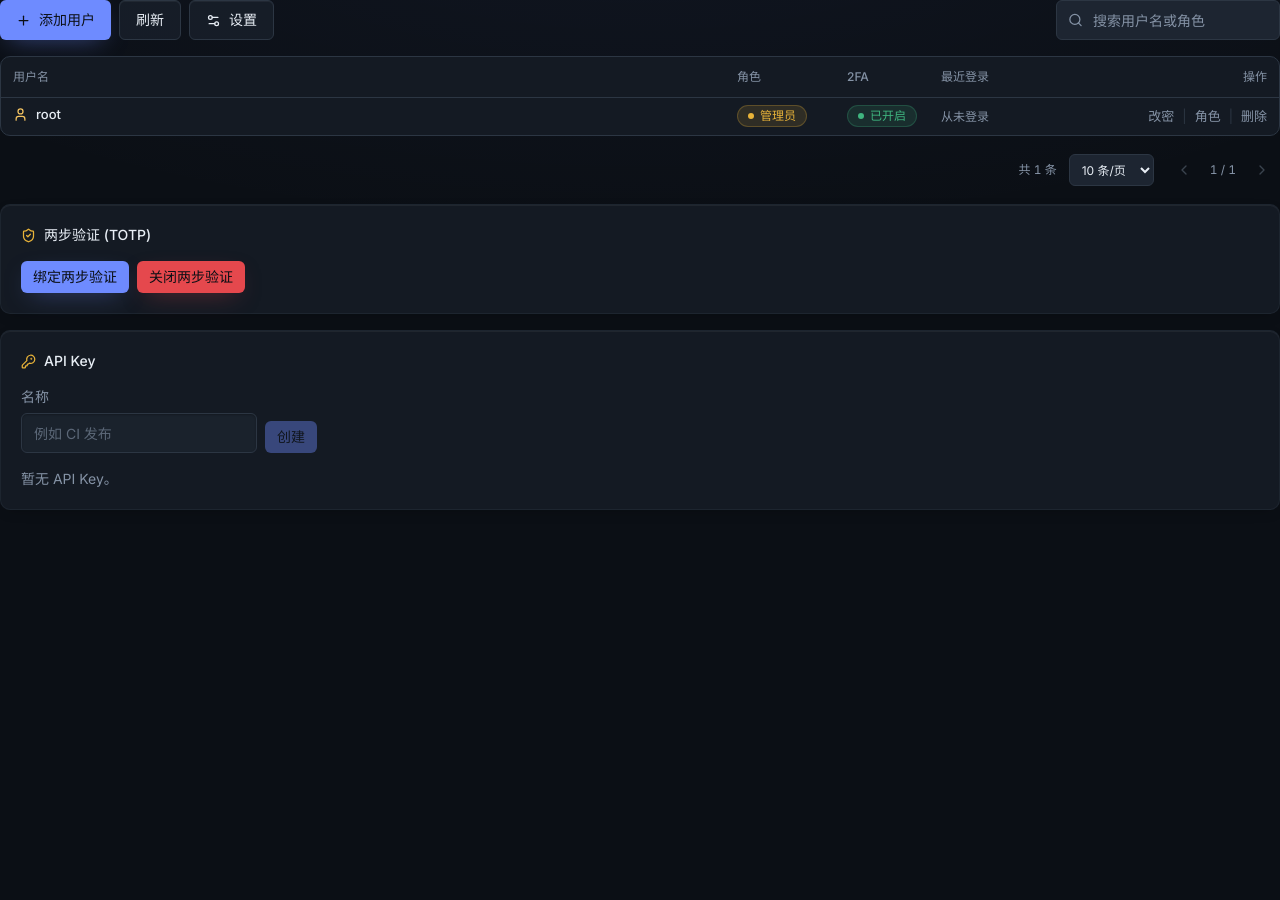
Users page › opens the add-user modal
The image size is (1280, 900).
Expected: the text "root" is shown, [36,105,61,124]
What coordinates should you click on to do the following:
click the button "添加用户"
I would click on:
 (56, 20)
Its box is [0,0,111,40].
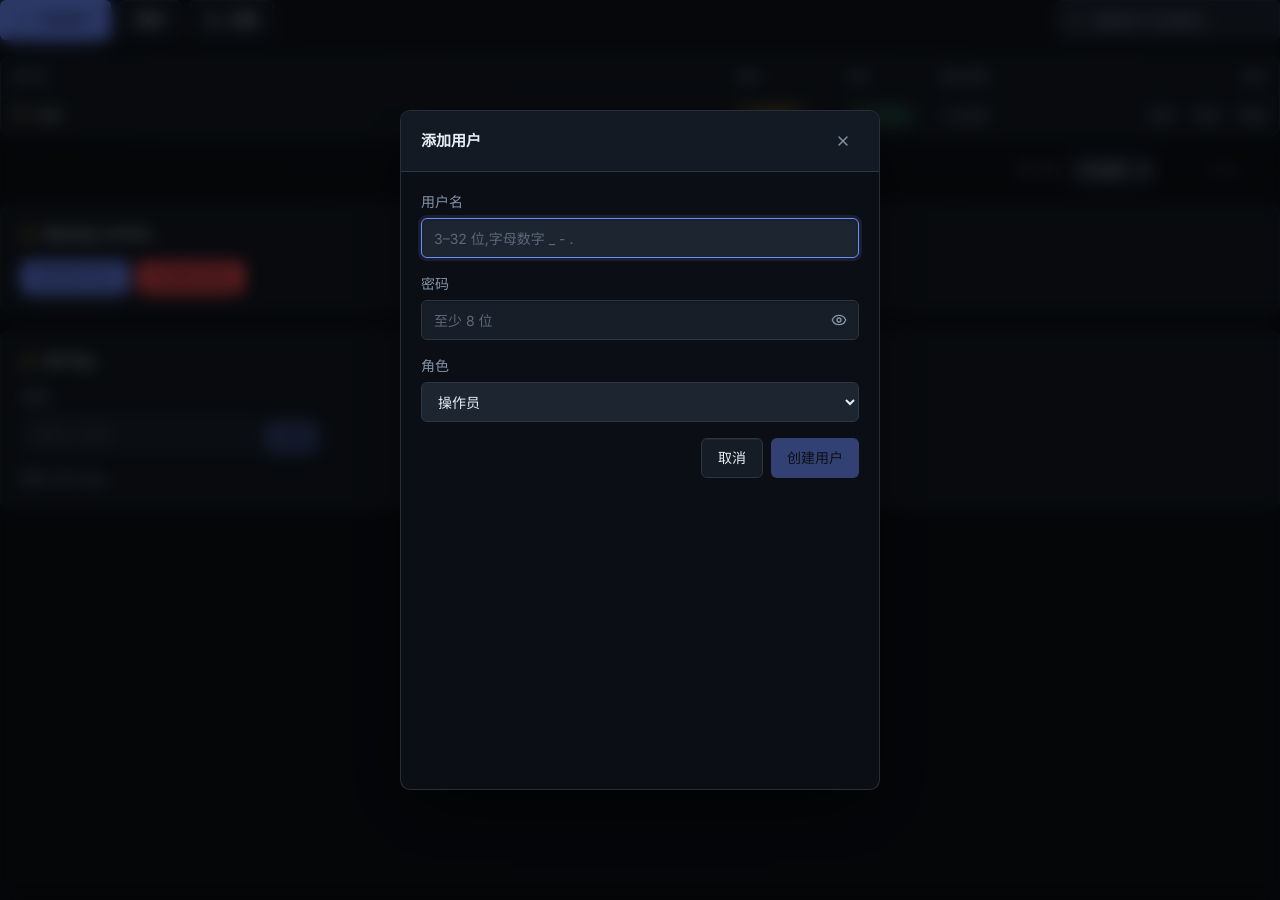
Now the button "创建用户" is shown, box [771,438,859,478]
